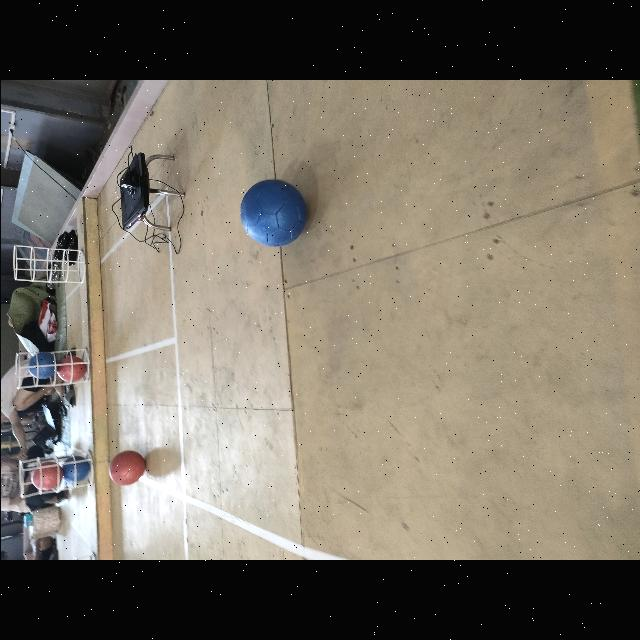B: (240, 180, 306, 247)
R: (109, 451, 144, 485)
